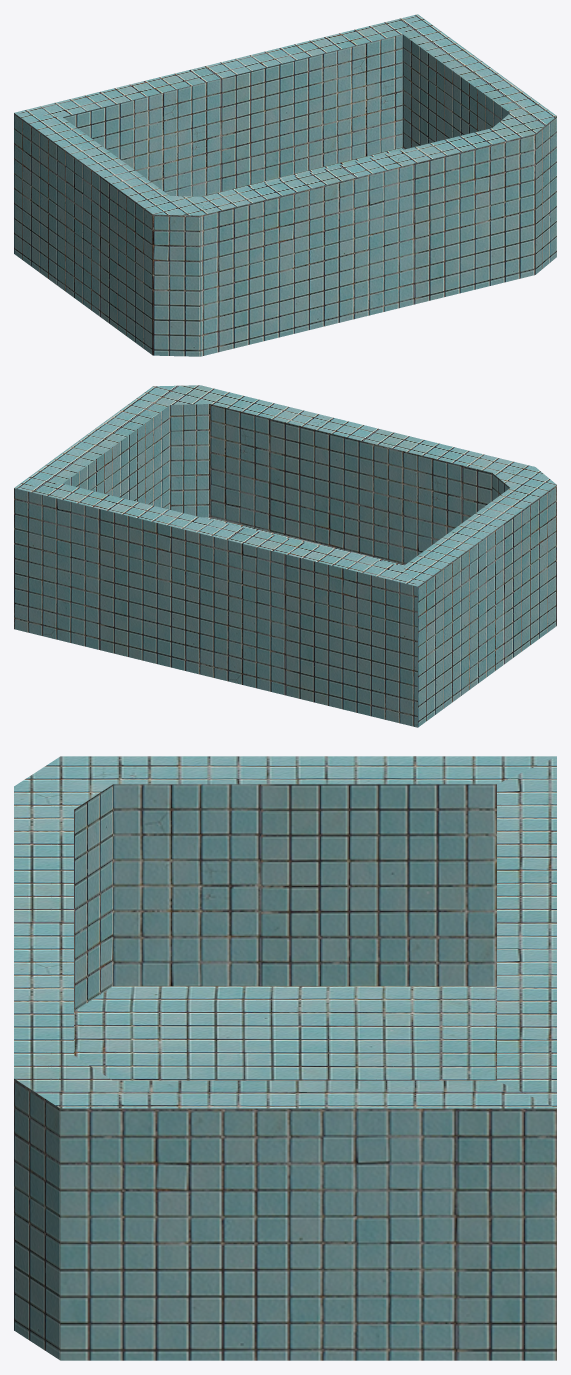
Rendered from Bath.glb.
3 views of the same model, one above another, from view 1: azimuth 30°, elevation 25°; view 2: azimuth 150°, elevation 25°; view 3: azimuth 270°, elevation 25° (orthographic). The views are drawn at different scales.
Parts seen in each view (by area): view 1: Cube; view 2: Cube; view 3: Cube.
Boxes of the visible parts, bbox=[...] form: Cube: bbox=[14, 14, 556, 356]; Cube: bbox=[14, 385, 556, 727]; Cube: bbox=[14, 756, 556, 1360].
Size of the model in its own units: 5.99 by 2 by 3.91.
1 material, 1 textured.
